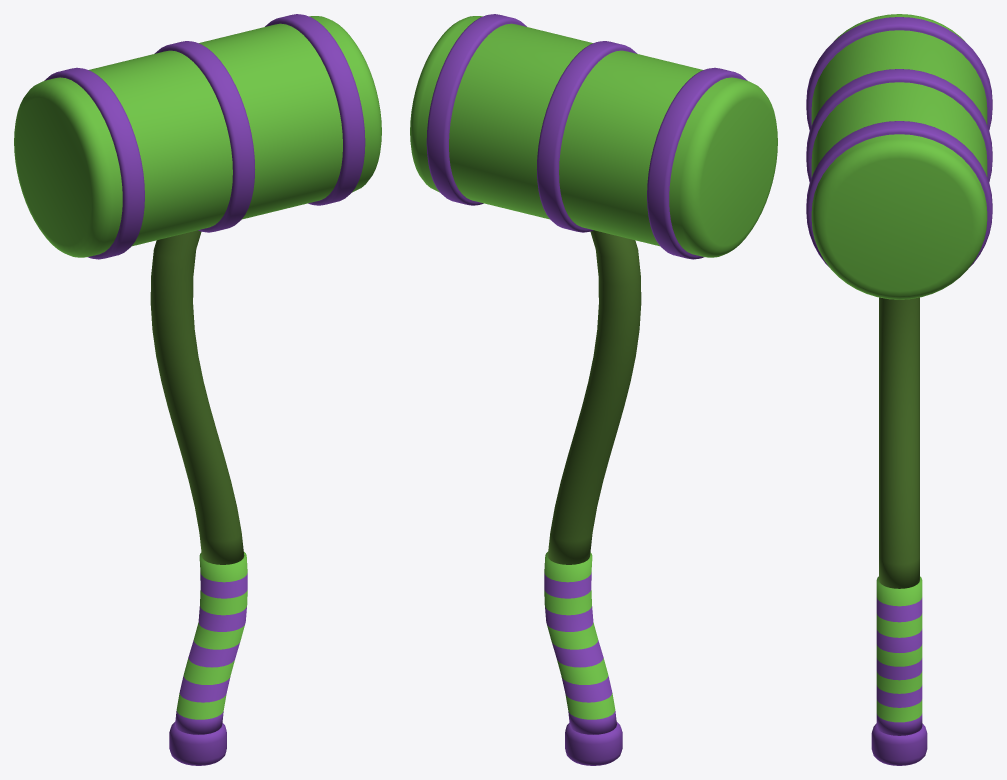
Rendered from hammer_hebidaru.fbx.
The picture shows the model from 3 angles, left to right: view 1: azimuth 30°, elevation 25°; view 2: azimuth 150°, elevation 25°; view 3: azimuth 270°, elevation 25°; orthographic projection. The views are drawn at different scales.
Visible parts, largest first — view 1: hebidaru_hammer; view 2: hebidaru_hammer; view 3: hebidaru_hammer.
Part boxes in pixels (x1,y1,x2,y2): hebidaru_hammer: (14,14,381,765); hebidaru_hammer: (410,14,777,765); hebidaru_hammer: (806,14,992,765).
Size of the model in its own units: 1.1 by 2.58 by 0.636.
